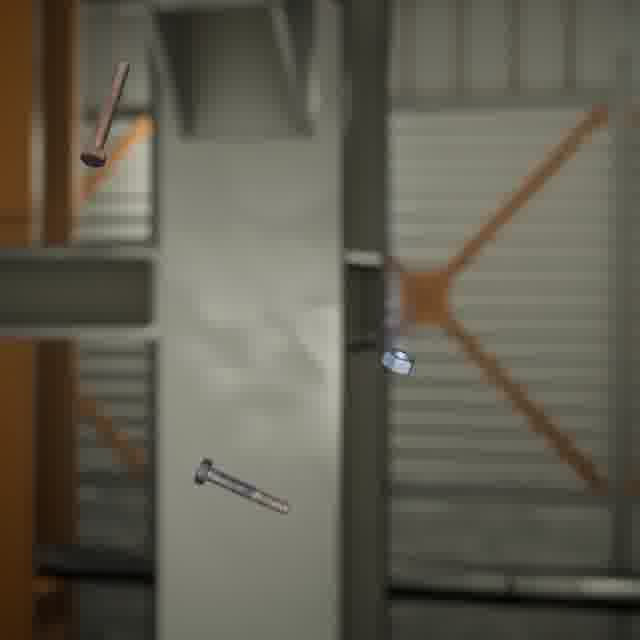bolt: (189, 453, 294, 519), (75, 56, 134, 171)
nut: (376, 343, 419, 379)
